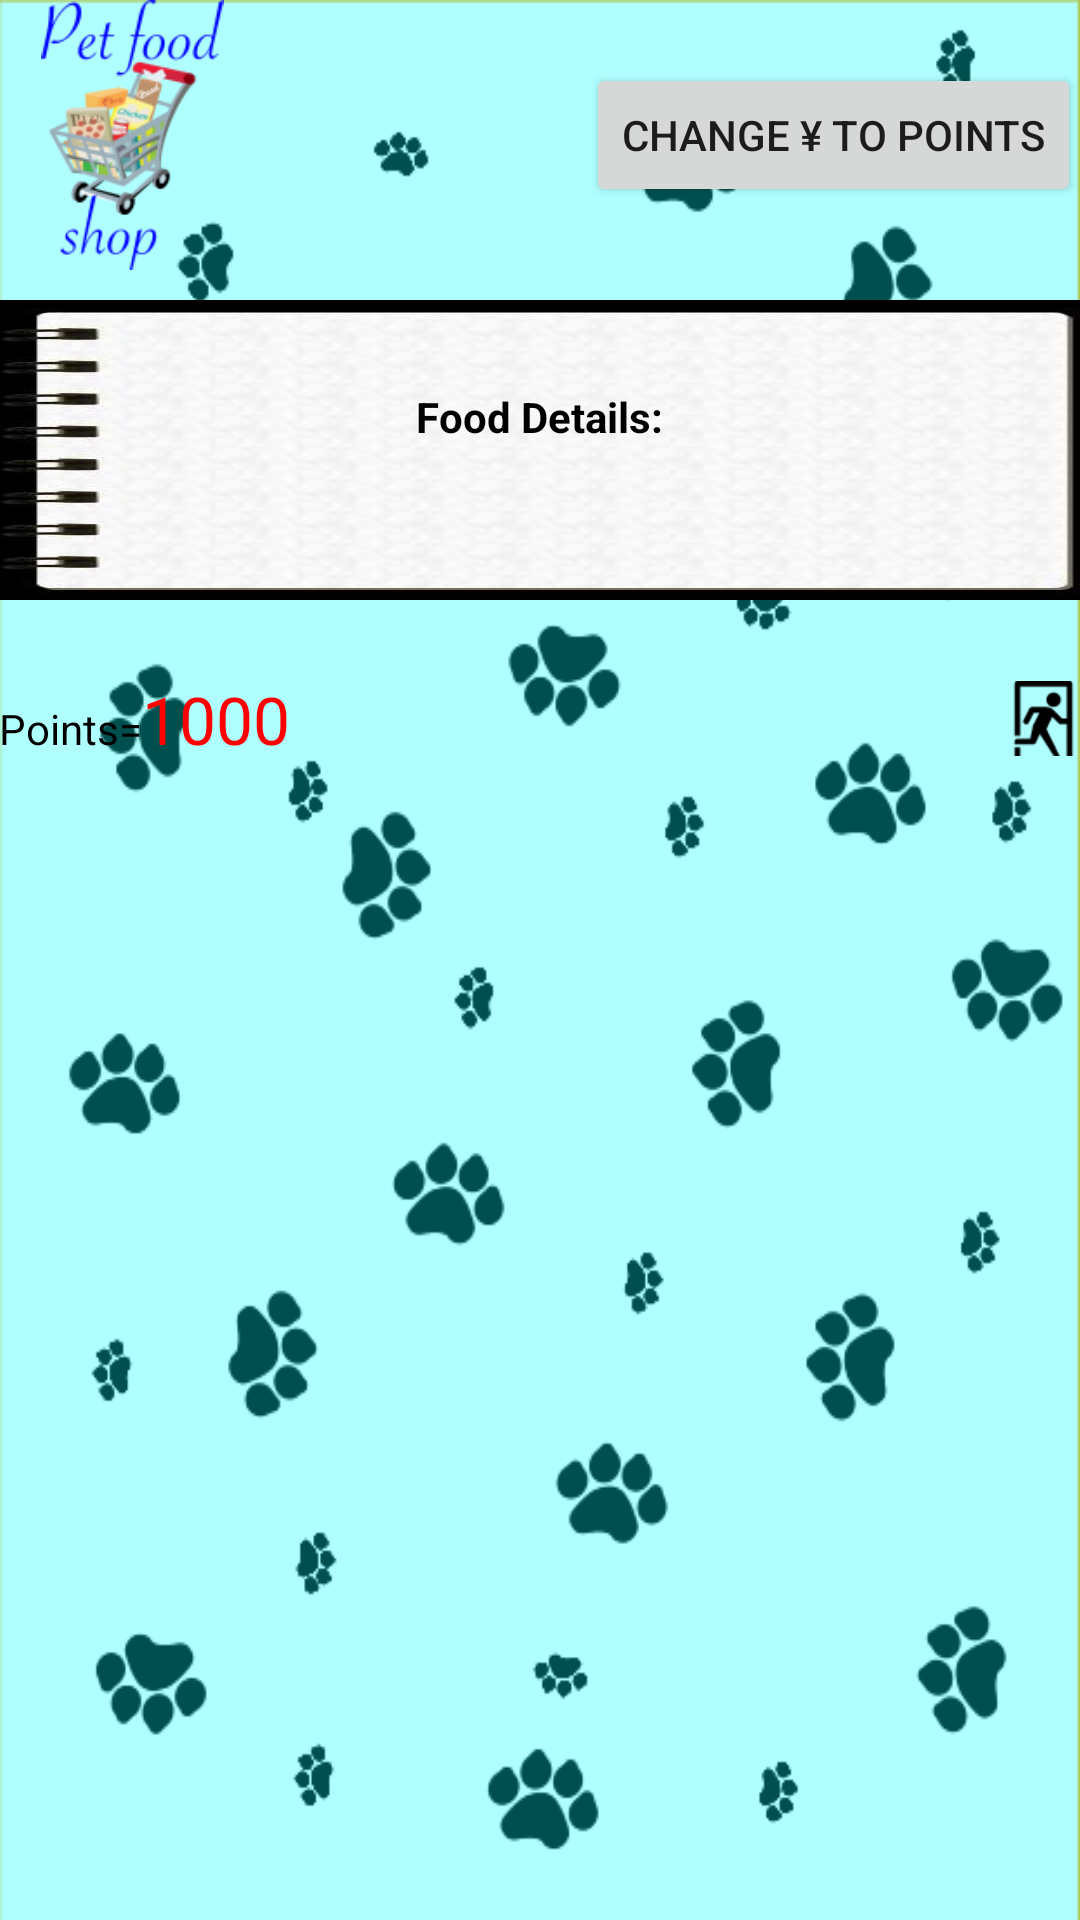

Named icons in this screenshot (1080px x 1920px) and their centers, (x=x, y=y):
exit shop: (x=1043, y=718)
